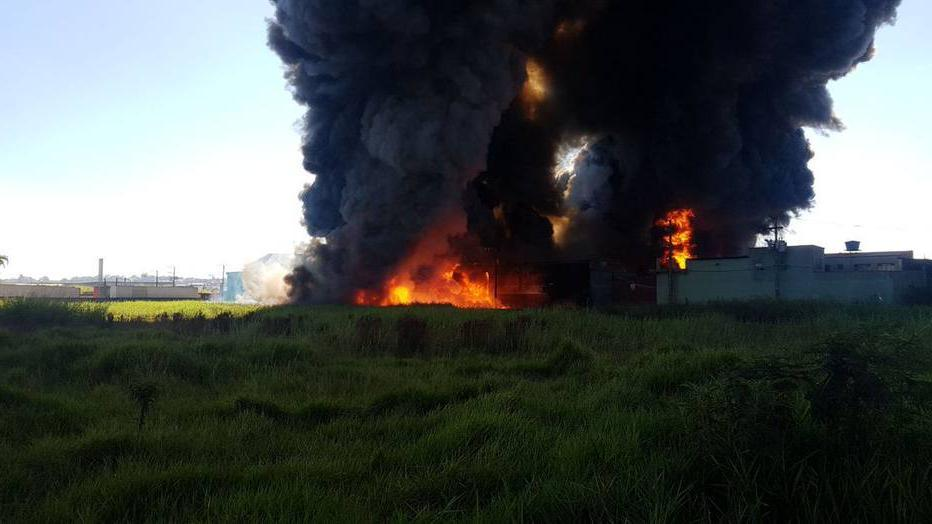Fire: (352, 250, 515, 316), (659, 201, 706, 274)
